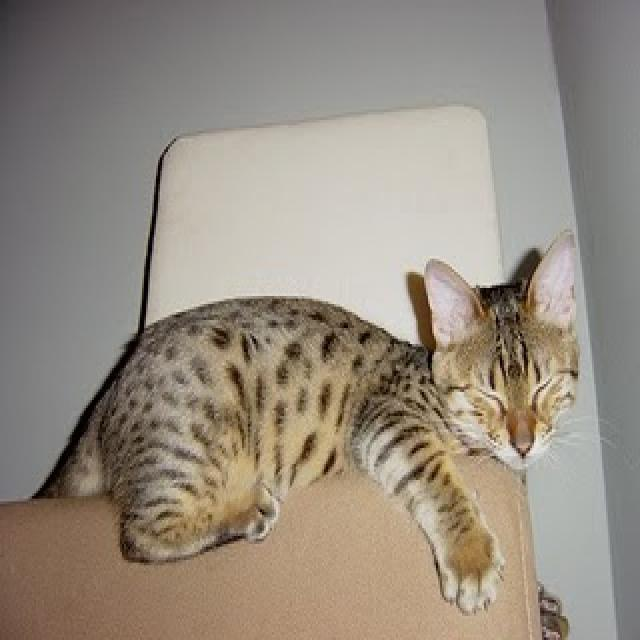Bengal: (422, 227, 576, 467)
